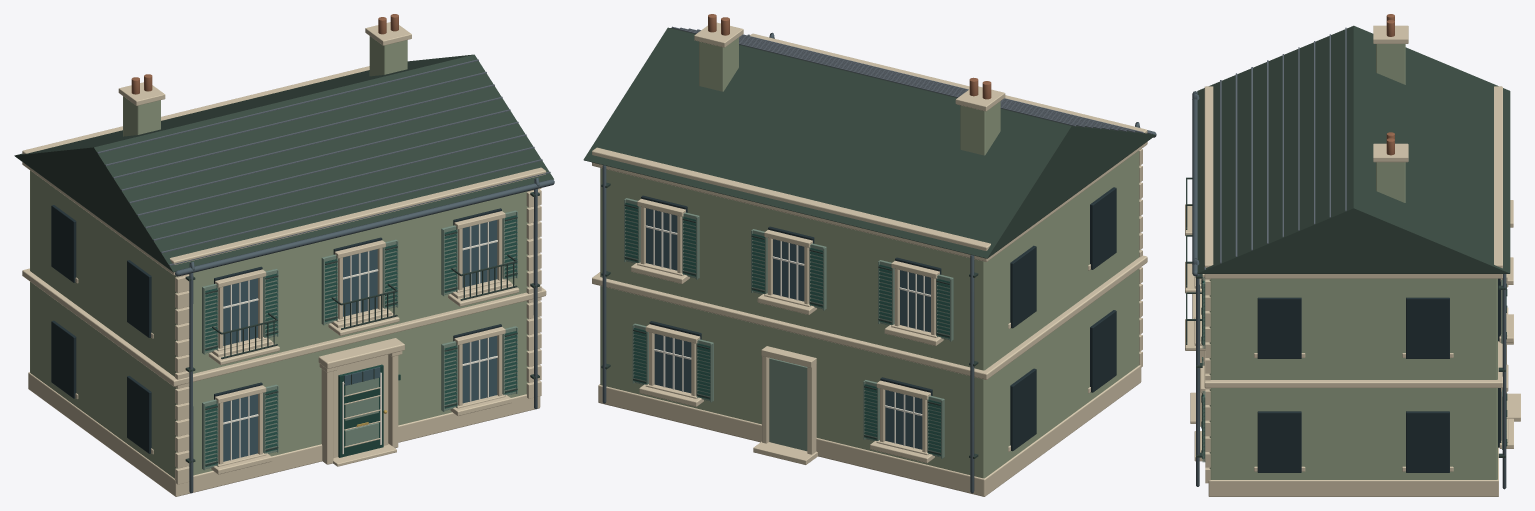
The model's file is sage_townhouse.glb.
3 renders of one model, left to right at view 1: azimuth 30°, elevation 25°; view 2: azimuth 150°, elevation 25°; view 3: azimuth 270°, elevation 25°, orthographic. The views are drawn at different scales.
Visible parts, largest first — view 1: Pitched_slate_roof, Building_masonry, Stone_plinth, Continuous_cornice, Continuous_cornice.002, Zinc_gutter, Window_glass.001, Window_glass, Window_glass.006, Window_glass.002, Window_glass.004, Entry_door (+26 smaller); view 2: Building_masonry, Pitched_slate_roof, Stone_plinth, Continuous_cornice, Continuous_cornice.002, Garden_entry_door, Continuous_cornice.001, Window_recess.011, Window_recess.013, Window_recess.010, Window_recess.012, Window_glass.009 (+20 smaller); view 3: Pitched_slate_roof, Building_masonry, Stone_plinth, Continuous_cornice.002, Window_recess.015, Window_recess.017, Window_recess.014, Window_recess.016, Continuous_cornice, Continuous_cornice.001, Chimney_stack.001, Chimney_stack (+7 smaller).
Boxes of the visible parts, x1,y1,x2,y2 form: Pitched_slate_roof: (14,54,553,272); Building_masonry: (30,170,528,478); Stone_plinth: (28,372,540,496); Continuous_cornice: (22,268,546,386); Continuous_cornice.002: (22,66,546,264); Zinc_gutter: (175,179,554,276); Window_glass.001: (462,336,497,403); Window_glass: (223,394,257,461); Window_glass.006: (462,220,497,287); Window_glass.002: (223,278,257,345); Window_glass.004: (343,249,377,316); Entry_door: (338,364,383,457); Building_masonry: (600,151,1139,478); Pitched_slate_roof: (583,27,1155,258); Stone_plinth: (598,365,1141,496); Continuous_cornice: (592,255,1147,379); Continuous_cornice.002: (592,33,1147,250); Garden_entry_door: (769,358,807,451); Continuous_cornice.001: (592,141,1147,261); Window_recess.011: (1010,368,1036,451); Window_recess.013: (1010,245,1036,328); Window_recess.010: (1090,310,1116,392); Window_recess.012: (1090,187,1116,269); Window_glass.009: (885,390,922,449); Pitched_slate_roof: (1197,25,1510,273); Building_masonry: (1209,278,1497,479); Stone_plinth: (1208,447,1498,496); Continuous_cornice.002: (1204,86,1502,268); Window_recess.015: (1257,411,1301,472); Window_recess.017: (1257,297,1301,358); Window_recess.014: (1406,411,1449,472); Window_recess.016: (1406,297,1449,358); Continuous_cornice: (1204,341,1502,387); Continuous_cornice.001: (1204,274,1502,278); Chimney_stack.001: (1376,162,1405,202); Chimney_stack: (1376,44,1405,84).
Bounding box in the file's own units: 10.5 × 8.9 × 8.16.
